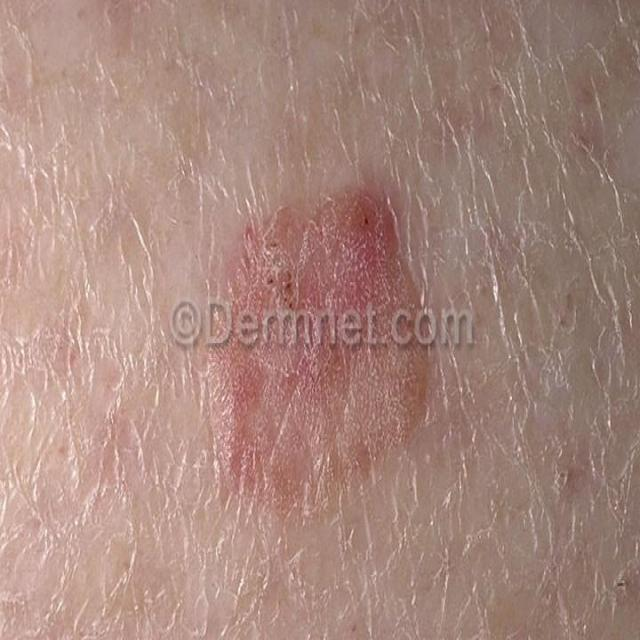Eczema: (192, 182, 455, 494)
